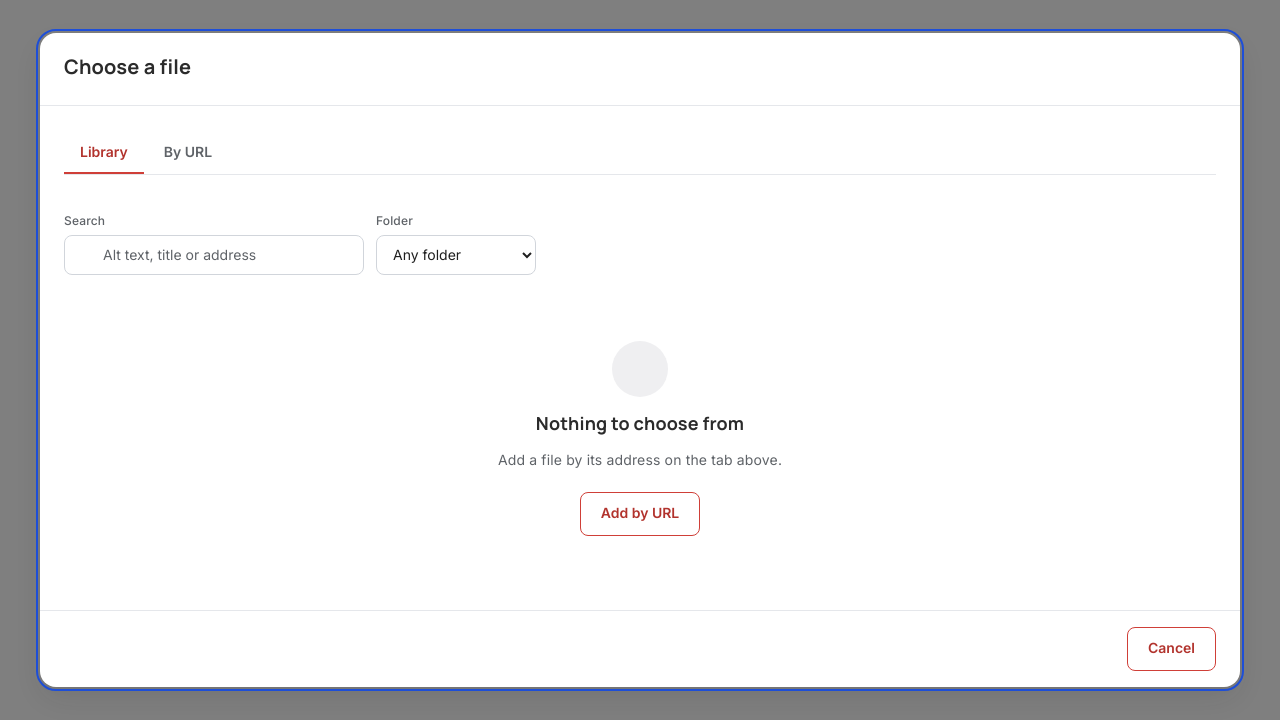
Test: says what to do when the library has nothing of that kind
Expected: the text "Nothing to choose from" is shown, x1=536 y1=408 x2=744 y2=437
Click the button "Add by URL" at (640,514), box x1=580 y1=492 x2=700 y2=536
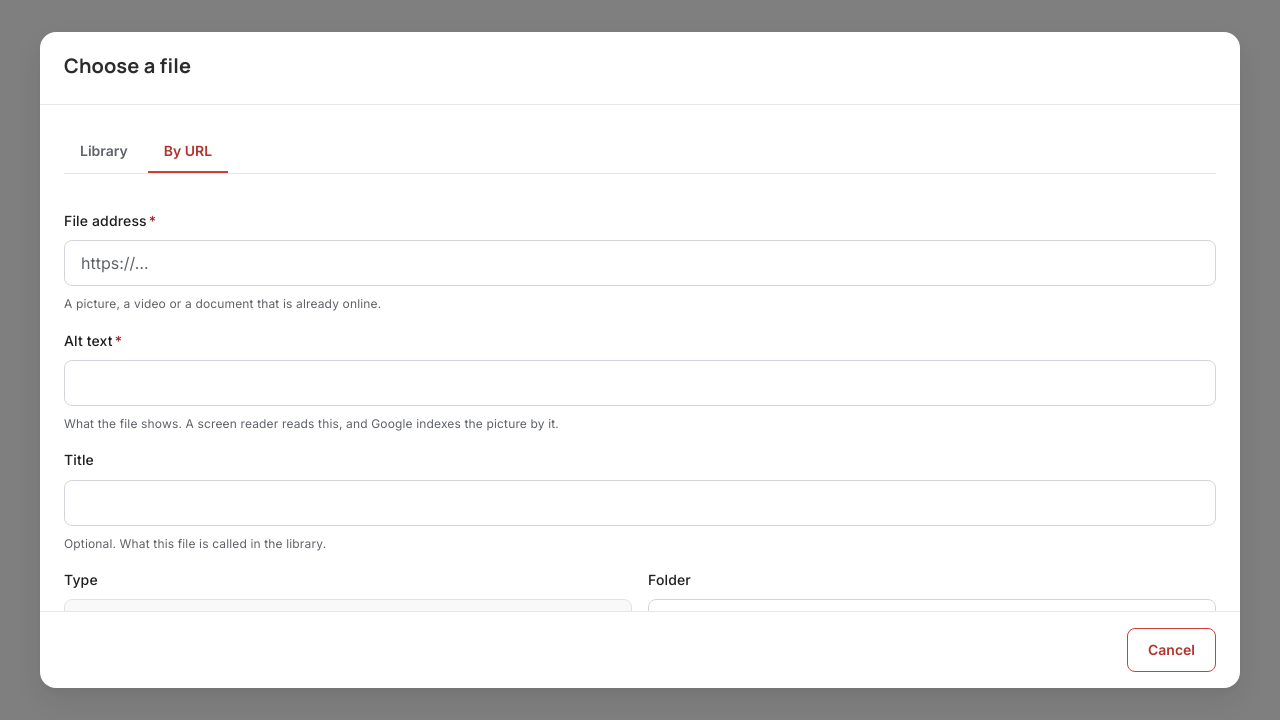
Now the field labelled "File address*" is shown, box x1=64 y1=240 x2=1216 y2=286
